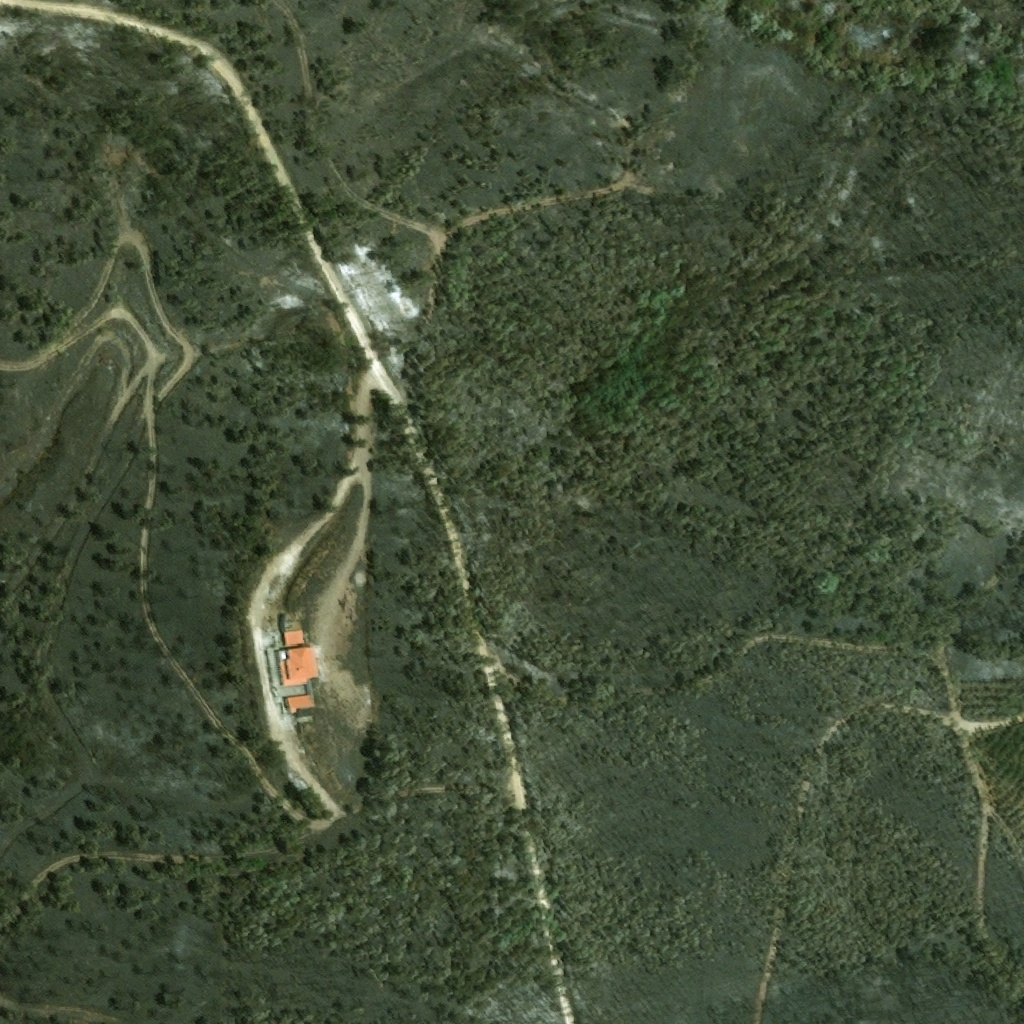0 no-damage: (275, 645, 318, 686), (283, 694, 316, 713)
1 minor-damage: (282, 621, 304, 644)
